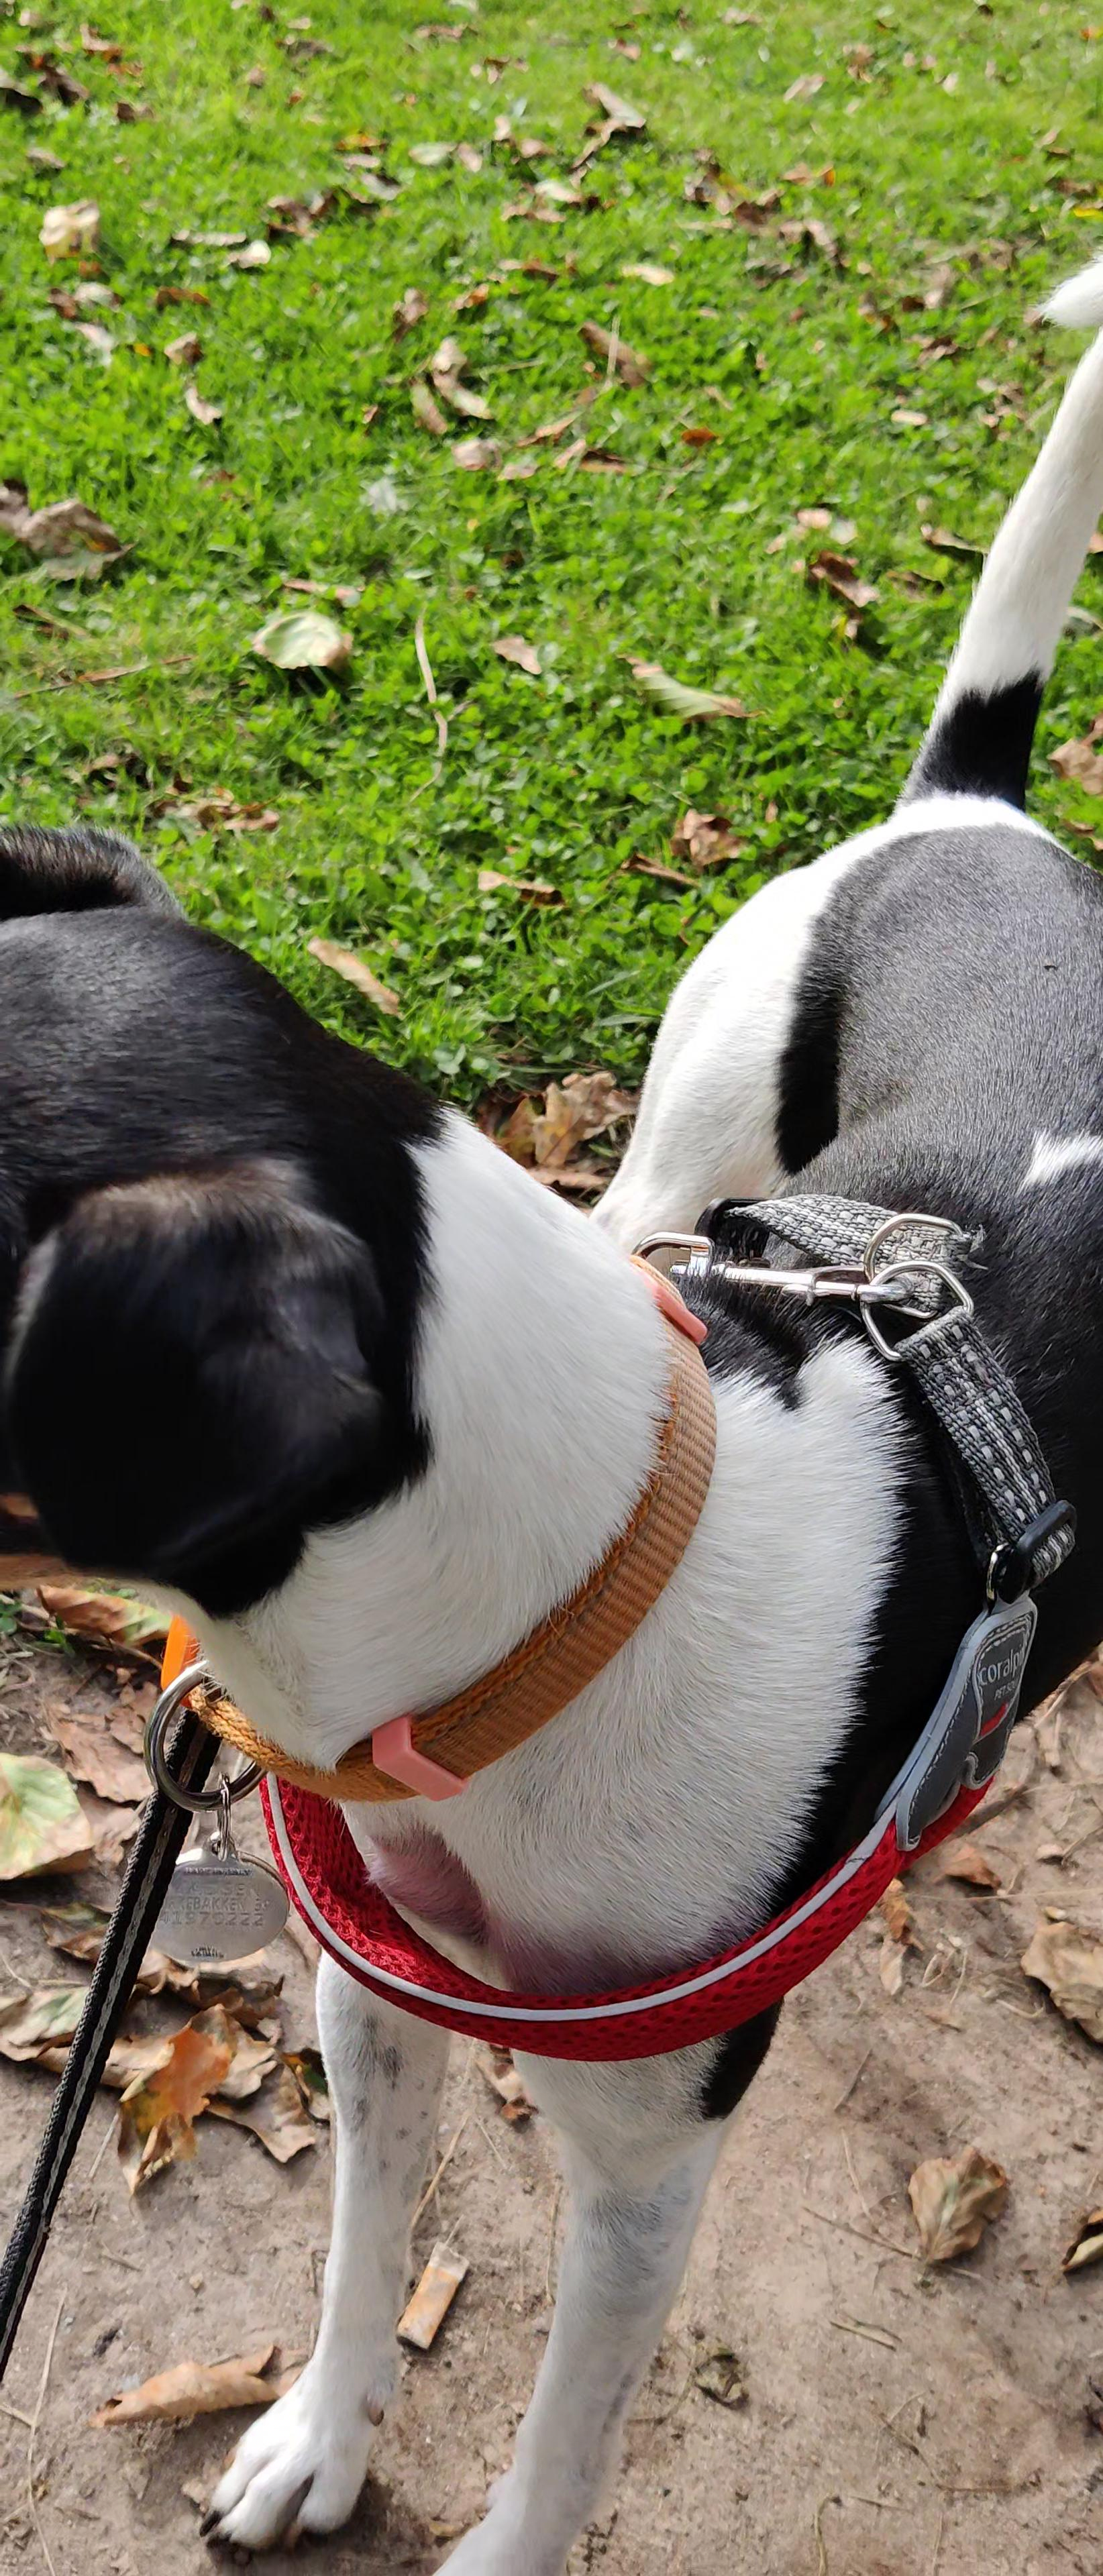Dog: (0, 235, 1103, 2576)
